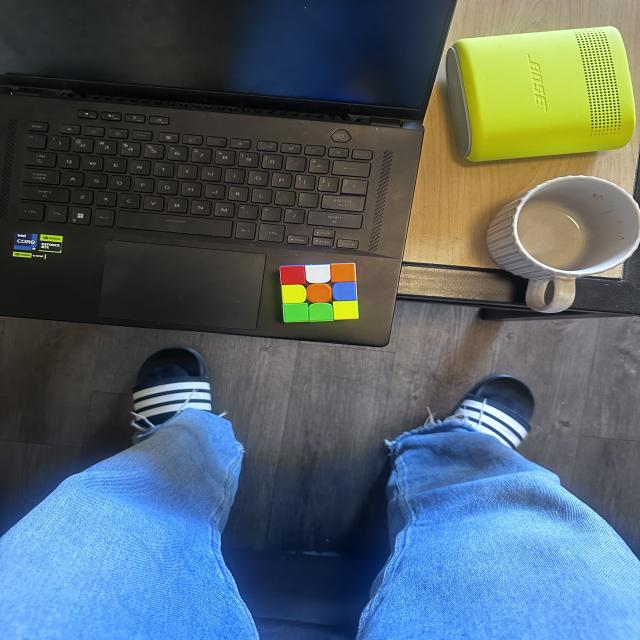sticker: (306, 283, 333, 304), (282, 302, 310, 322), (280, 265, 306, 286), (332, 281, 358, 302), (330, 263, 357, 283), (332, 300, 359, 320), (308, 302, 334, 322), (281, 284, 307, 304), (305, 264, 331, 284)
